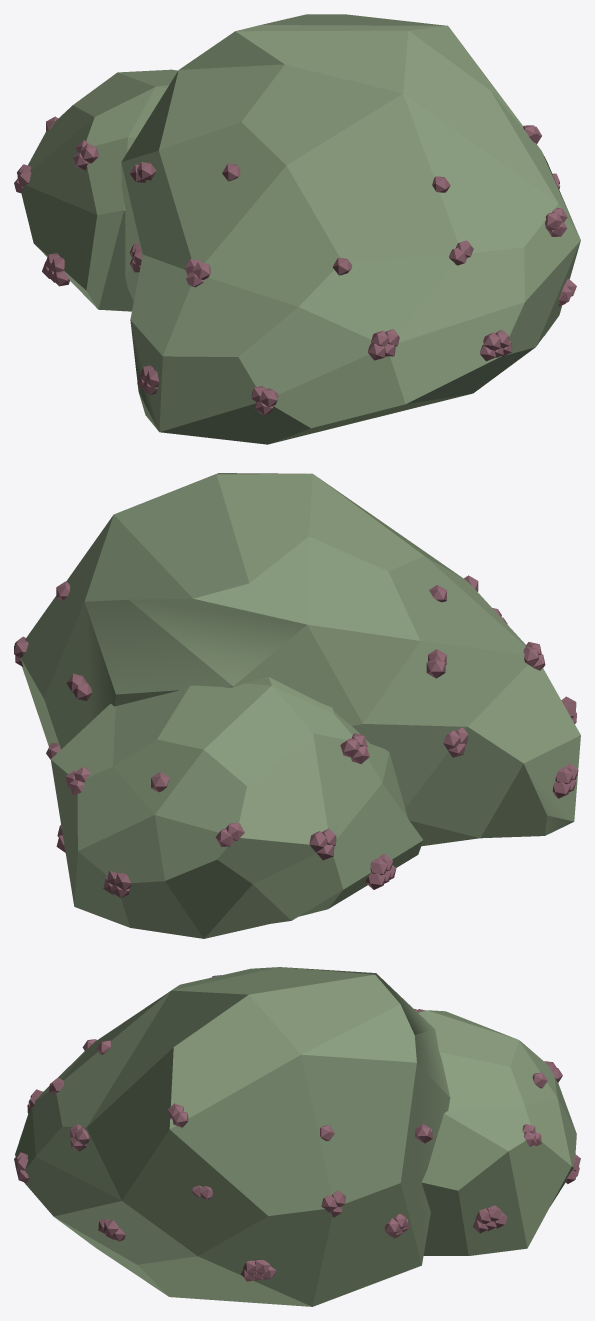
File: BerryBush1.fbx
The picture shows the model from 3 angles, top to bottom: view 1: azimuth 30°, elevation 25°; view 2: azimuth 150°, elevation 25°; view 3: azimuth 270°, elevation 25°; orthographic projection. The views are drawn at different scales.
Parts seen in each view (by area): view 1: Berry_Big_bush1; view 2: Berry_Big_bush1; view 3: Berry_Big_bush1.
Part boxes in pixels (left/top/right/bottom): Berry_Big_bush1: left=14, top=14, right=580, bottom=444; Berry_Big_bush1: left=14, top=473, right=580, bottom=938; Berry_Big_bush1: left=14, top=967, right=580, bottom=1306.
Size of the model in its own units: 11.28 by 7.02 by 13.73.
